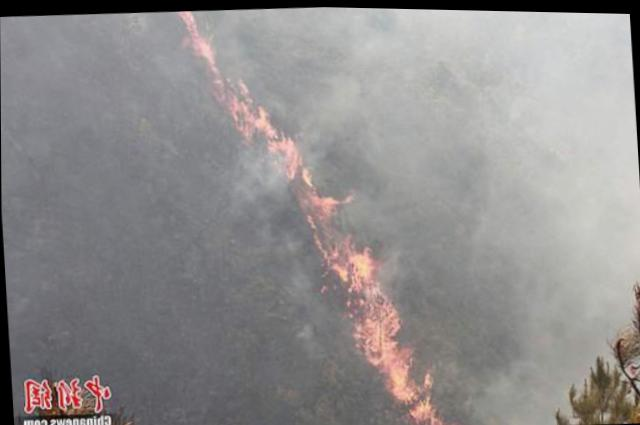fire: (176, 3, 466, 424)
